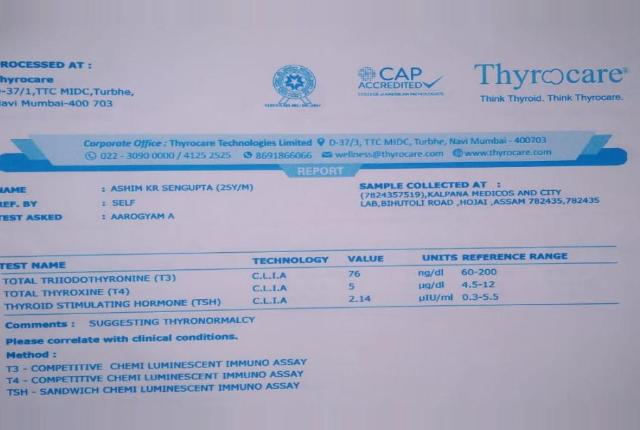Clinical_Conditions: (2, 354, 317, 400)
Name: (107, 179, 260, 193)
Ref_By: (106, 196, 142, 208)
Reference_Range: (460, 265, 505, 305)
Technology: (247, 269, 297, 310)
Test_Asked: (108, 210, 179, 224)
Test_Name: (2, 273, 225, 312)
Unit: (414, 265, 456, 306)
Value: (345, 267, 377, 308)
